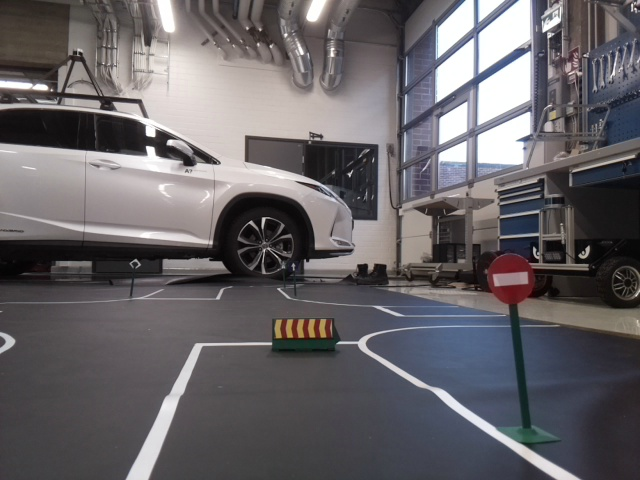ClosedRoadStand: (271, 317, 335, 340)
NoEntry: (486, 253, 535, 304)
